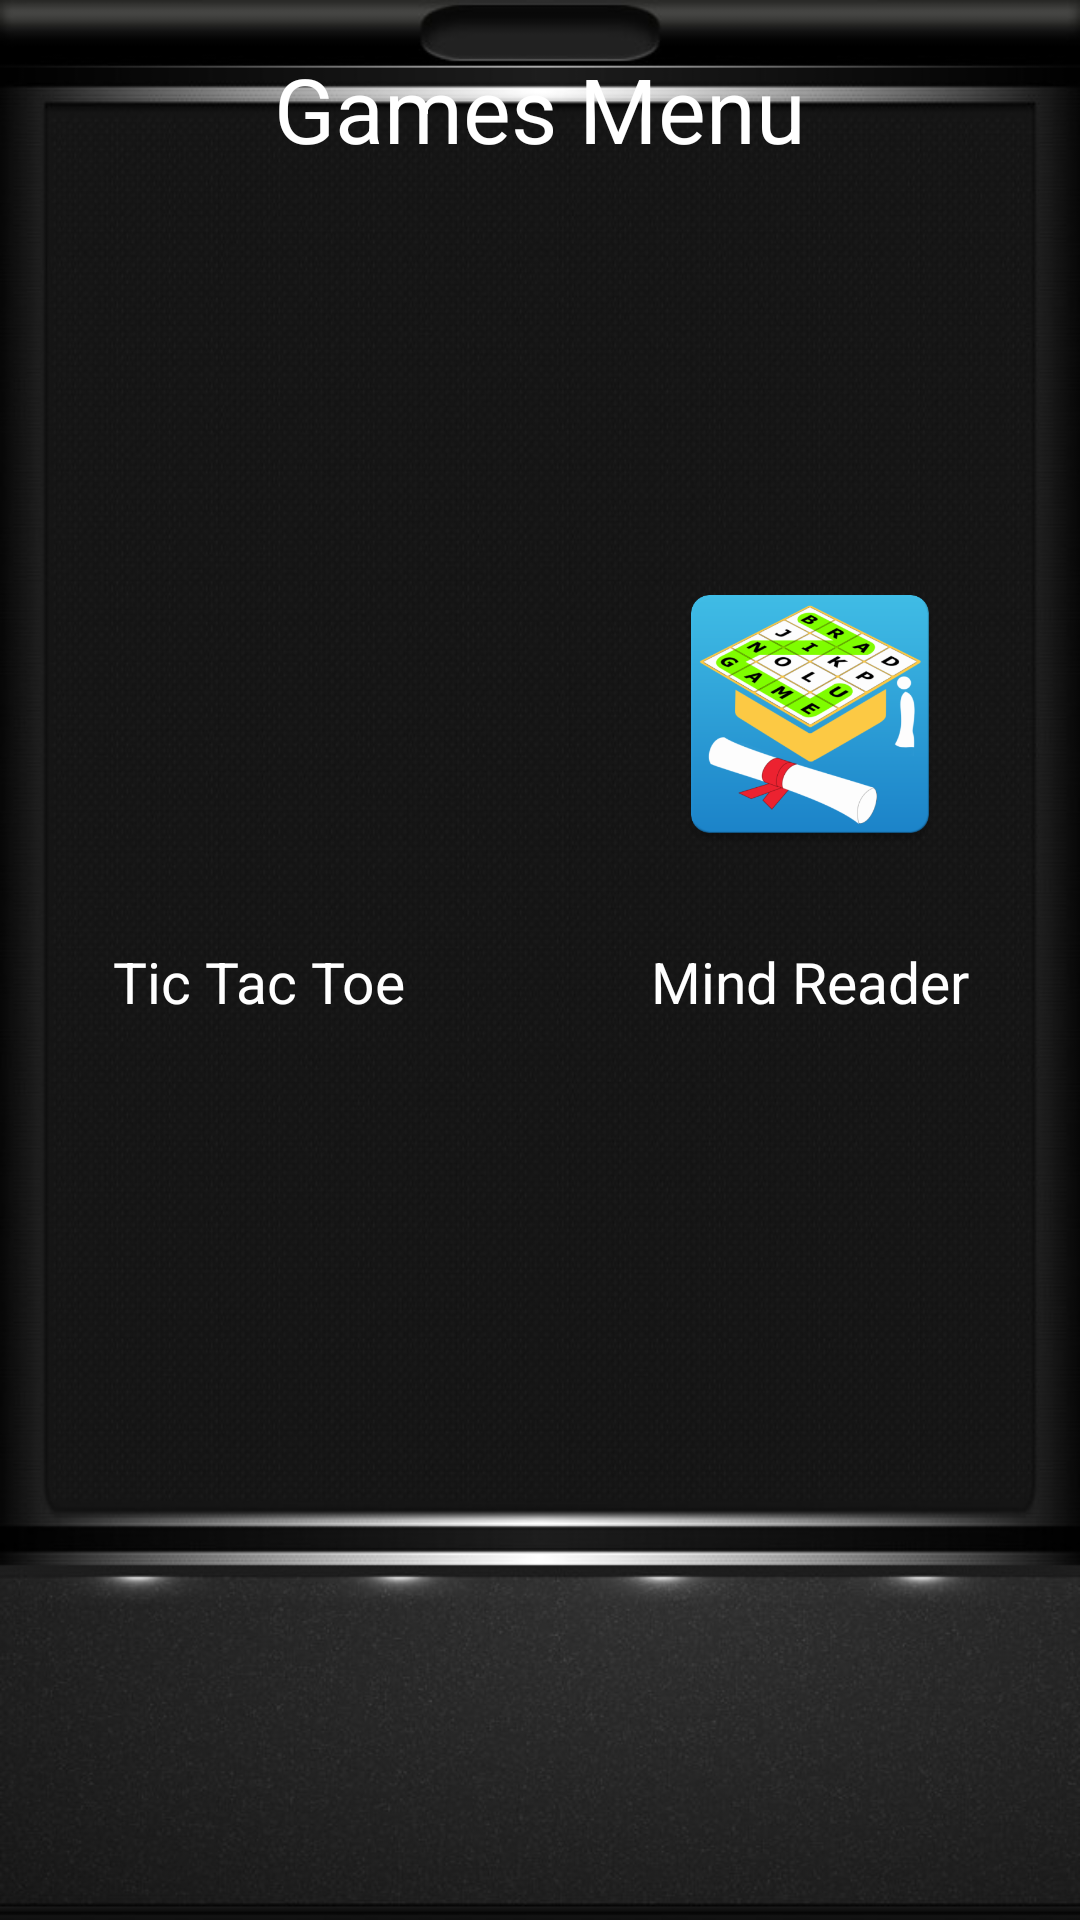

Point at icon controls on the screen. Image size 1080×1920, points as (x=x, y=y).
braingameicon: (x=810, y=714)
